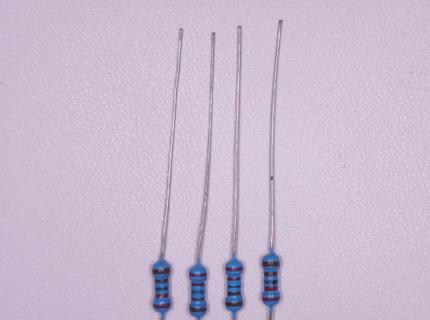Black band: (264, 279, 278, 285), (192, 290, 204, 294), (156, 287, 168, 291), (228, 285, 241, 288)
Brown band: (152, 267, 170, 274), (262, 261, 280, 266), (226, 301, 243, 306), (227, 291, 240, 296), (190, 307, 206, 311), (155, 279, 168, 283), (264, 272, 277, 276), (191, 298, 204, 301)
Red band: (262, 296, 280, 301), (153, 303, 170, 308), (265, 286, 278, 292), (190, 273, 207, 277), (226, 267, 243, 271), (156, 293, 169, 298), (228, 277, 241, 281), (191, 283, 205, 286)
